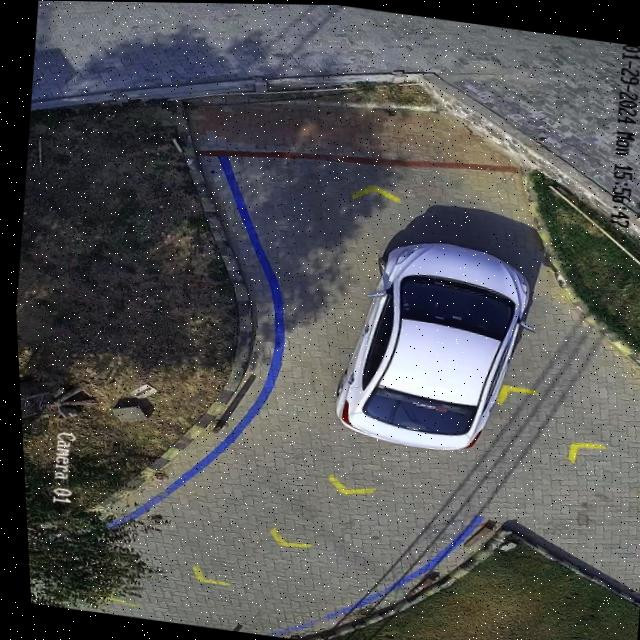car: (326, 241, 525, 449)
